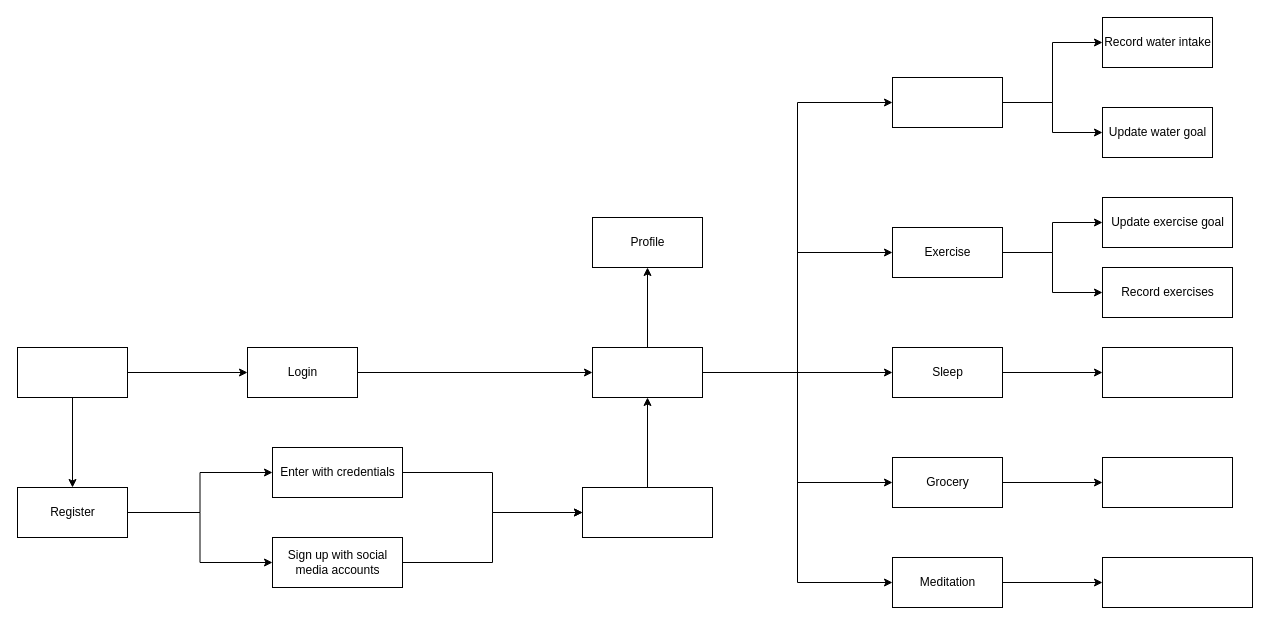
This 1270x625 diagram has some shape labels left out. The shapes that lost their labels are listed below. From the top down, each one's centre as x and y in pixels, then its label:
point (947, 102): Water
point (72, 372): Start
point (647, 372): Dashboard
point (1167, 372): Record sleep
point (1167, 482): Add grocery items
point (647, 512): Set general goals
point (1177, 582): Record medtation session
